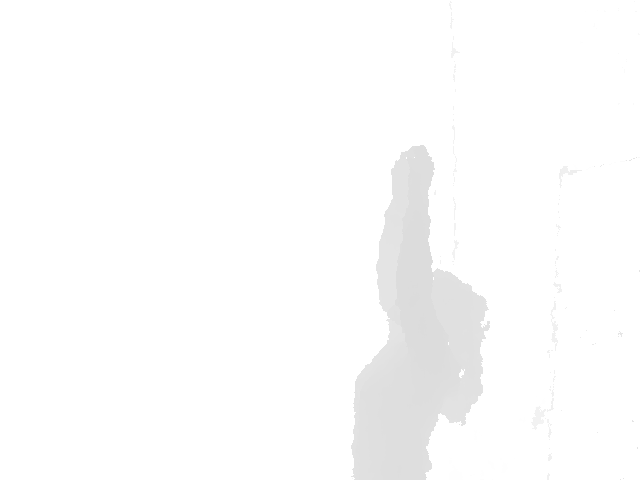hand: (390, 144, 436, 193)
head: (383, 269, 493, 350)
person: (350, 143, 493, 480)
